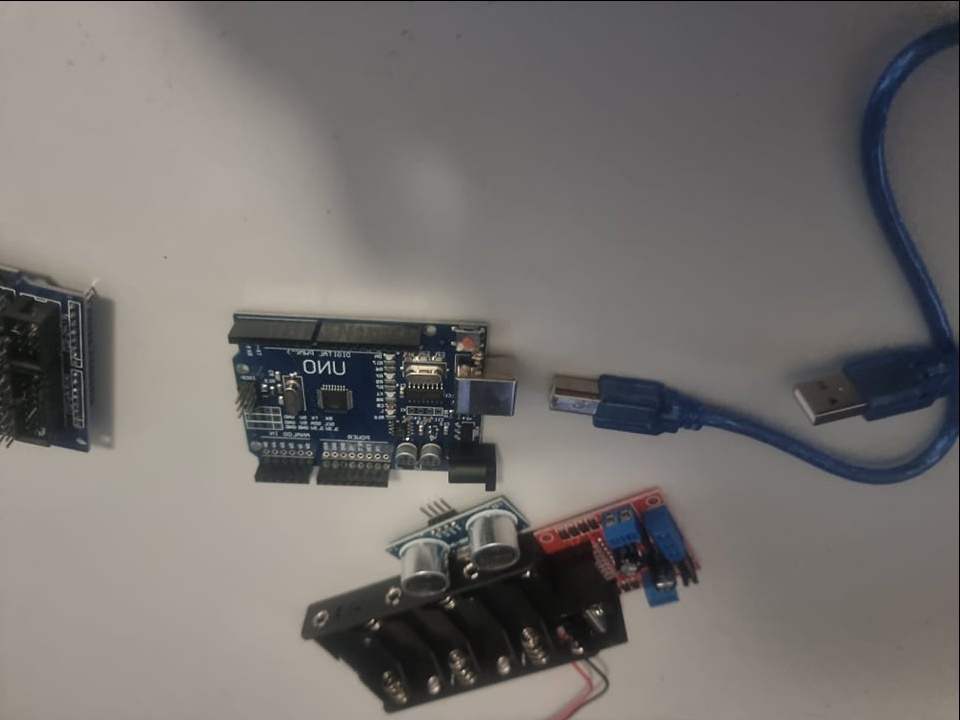5V EXPANSION: (1, 272, 93, 454)
BATTERY BOX: (298, 569, 544, 719)
MOTOR: (535, 483, 706, 658)
SENSOR: (381, 498, 527, 596)
UNO R3: (221, 307, 525, 496)
